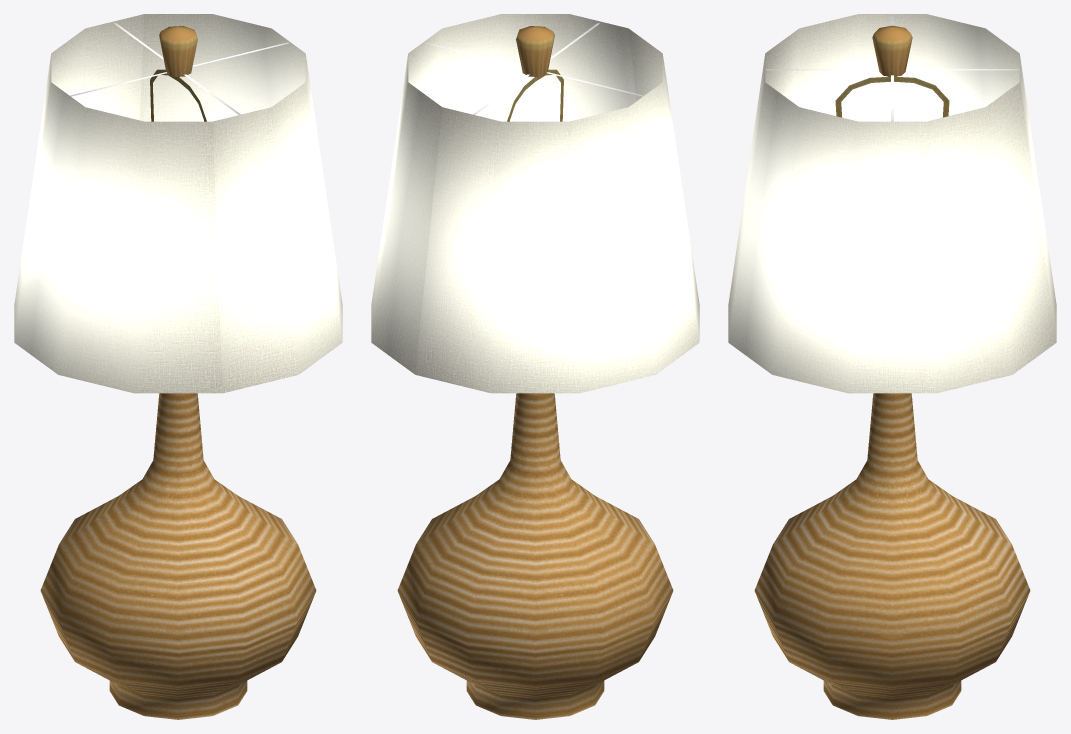
The model's file is office_lamp.dae.
The picture shows the model from 3 angles, left to right: view 1: azimuth 30°, elevation 25°; view 2: azimuth 150°, elevation 25°; view 3: azimuth 270°, elevation 25°; orthographic projection.
Visible parts, largest first — view 1: Lamp; view 2: Lamp; view 3: Lamp.
Part boxes in pixels (x1=…): Lamp: x1=14, y1=14, x2=342, y2=719; Lamp: x1=371, y1=14, x2=699, y2=719; Lamp: x1=728, y1=14, x2=1056, y2=719.
Bounding box in the file's own units: 32.5 × 32.5 × 72.36.
